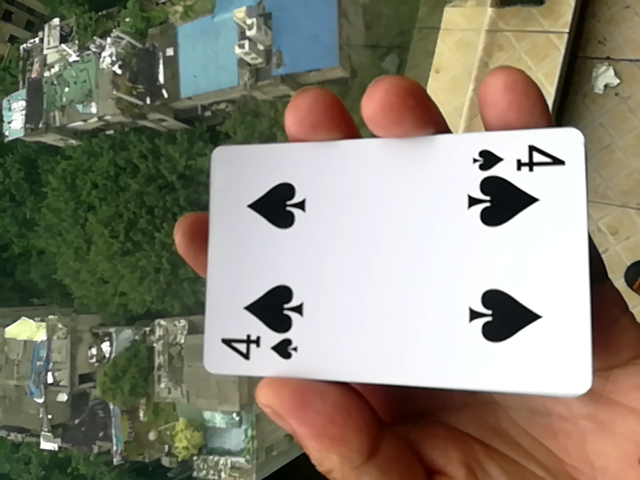ht 4: (194, 129, 592, 397)
